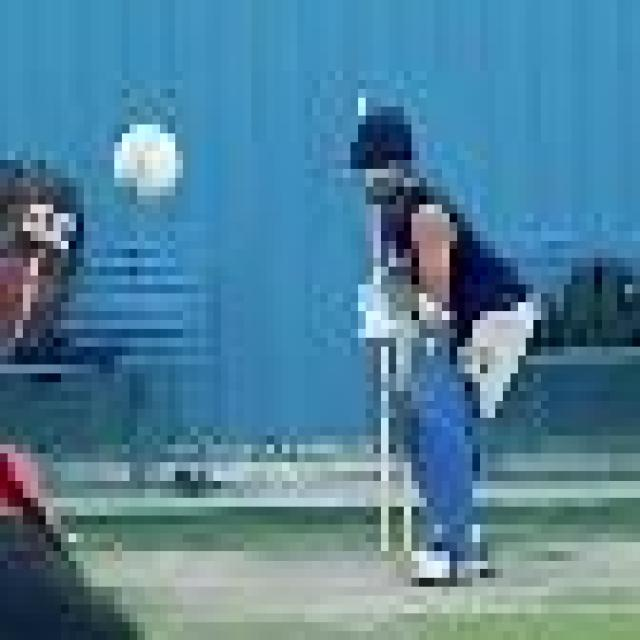ball: (104, 102, 195, 217)
